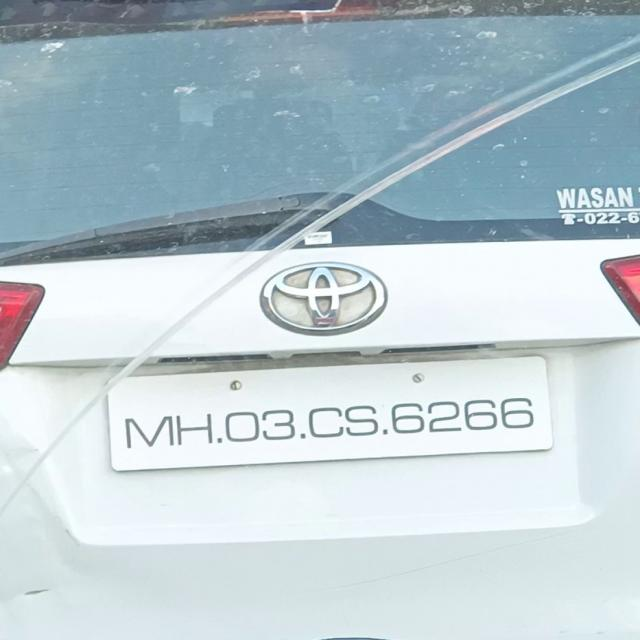Plate: (109, 355, 554, 473)
